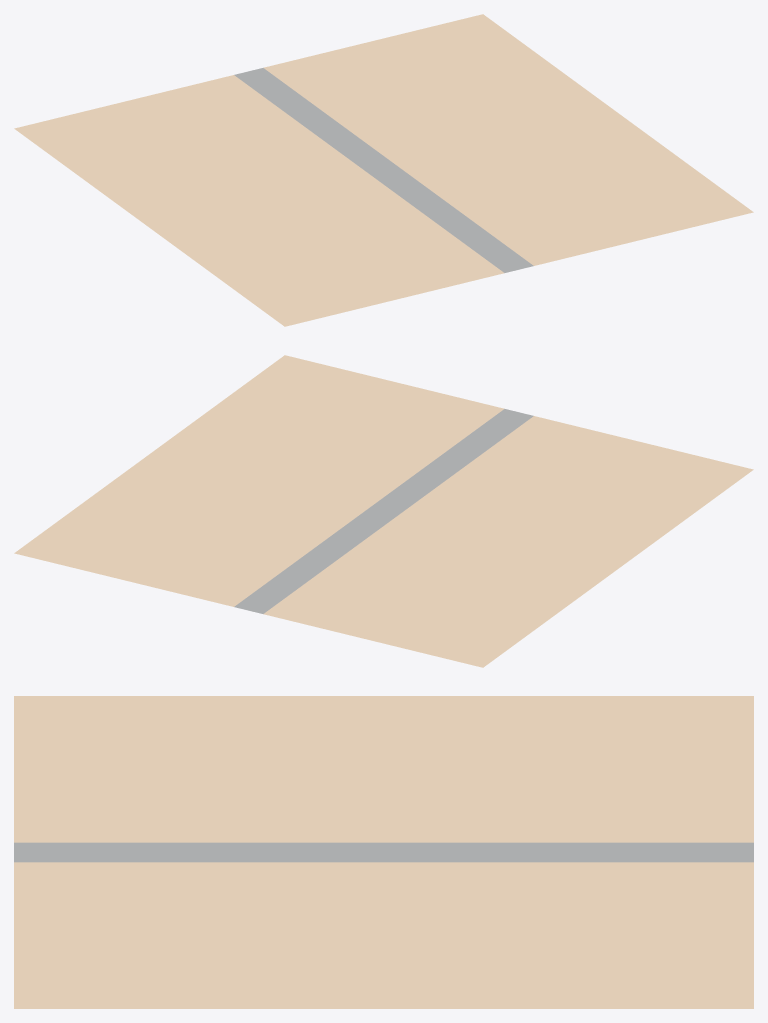
File: map00.gltf
The picture shows the model from 3 angles, top to bottom: view 1: azimuth 30°, elevation 25°; view 2: azimuth 150°, elevation 25°; view 3: azimuth 270°, elevation 25°; orthographic projection. The views are drawn at different scales.
Parts seen in each view (by area): view 1: Node2, Node4, Node1, Node3; view 2: Node2, Node4, Node1, Node3; view 3: Node2, Node4, Node1, Node3.
Part boxes in pixels (left/top/right/bottom): Node2: left=14, top=75, right=504, bottom=326; Node4: left=263, top=14, right=753, bottom=265; Node1: left=249, top=68, right=533, bottom=269; Node3: left=234, top=71, right=518, bottom=272; Node2: left=263, top=416, right=753, bottom=667; Node4: left=14, top=355, right=504, bottom=606; Node1: left=234, top=409, right=518, bottom=610; Node3: left=249, top=412, right=533, bottom=613; Node2: left=14, top=696, right=753, bottom=842; Node4: left=14, top=862, right=753, bottom=1008; Node1: left=14, top=852, right=753, bottom=862; Node3: left=14, top=842, right=753, bottom=852.
Bounding box in the file's own units: 2139194 × 1.31e-10 × 2139194.
